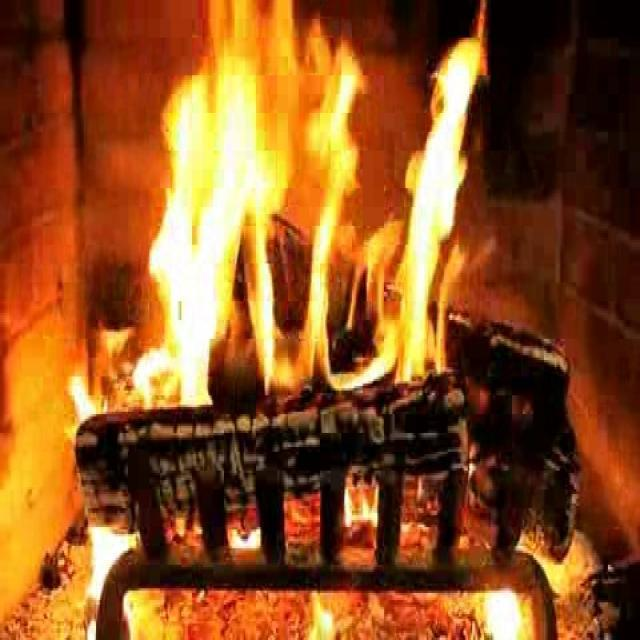Fire: (178, 24, 438, 378)
